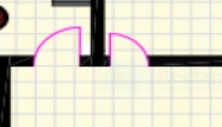door: (29, 18, 85, 77), (108, 25, 150, 77)
